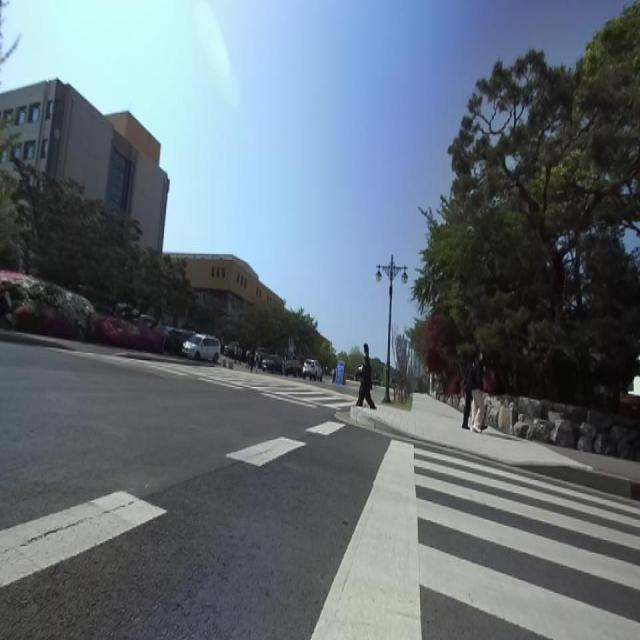sidewalk: (371, 393, 594, 470), (561, 450, 640, 481)
